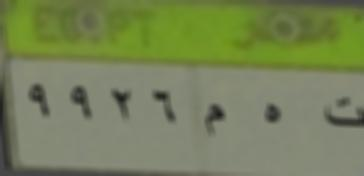2: (109, 79, 136, 129)
6: (149, 84, 181, 134)
9: (65, 81, 95, 123), (25, 78, 51, 124)
haa: (257, 98, 286, 133)
meem: (199, 98, 228, 141)
taa: (318, 90, 364, 134)
